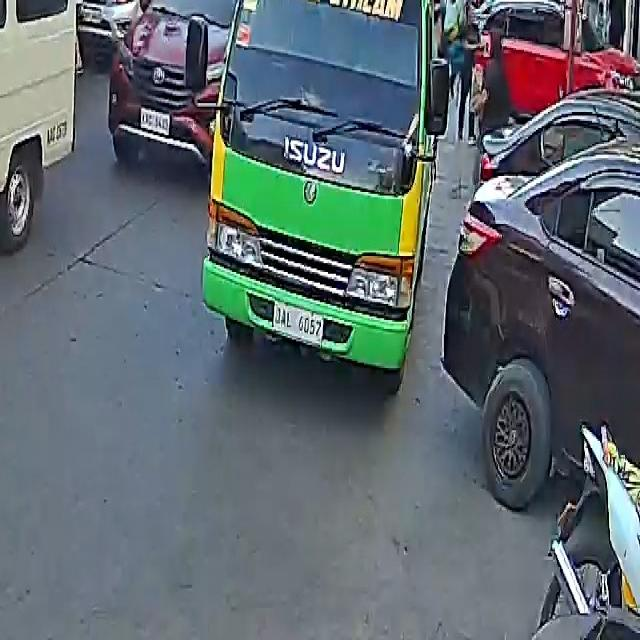car: (442, 111, 640, 513), (104, 0, 251, 167), (462, 0, 640, 114), (81, 0, 193, 23)
